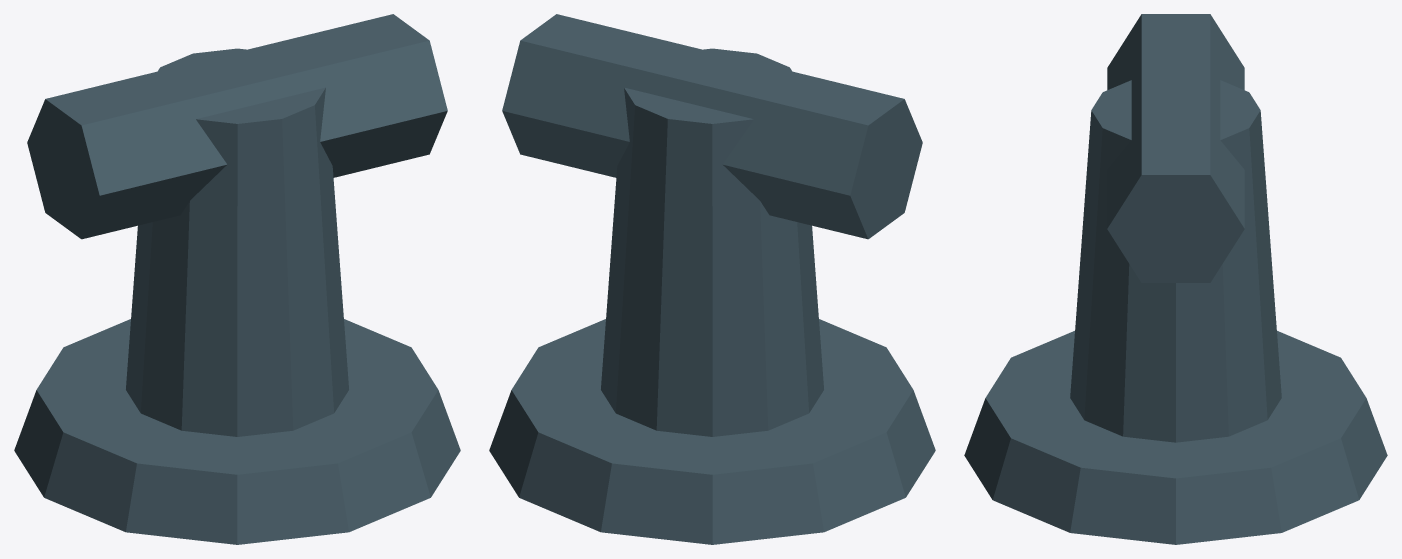
Rendered from mooring_bollard_quiet_lake_fishing_22405.glb.
3 views of the same model, side by side, from view 1: azimuth 30°, elevation 25°; view 2: azimuth 150°, elevation 25°; view 3: azimuth 270°, elevation 25° (orthographic). The views are drawn at different scales.
Parts seen in each view (by area): view 1: iron; view 2: iron; view 3: iron.
Part boxes in pixels (x1=…): iron: x1=14, y1=14, x2=460, y2=544; iron: x1=489, y1=14, x2=935, y2=544; iron: x1=964, y1=14, x2=1387, y2=544.
Bounding box in the file's own units: 0.4 × 0.3763 × 0.4.
